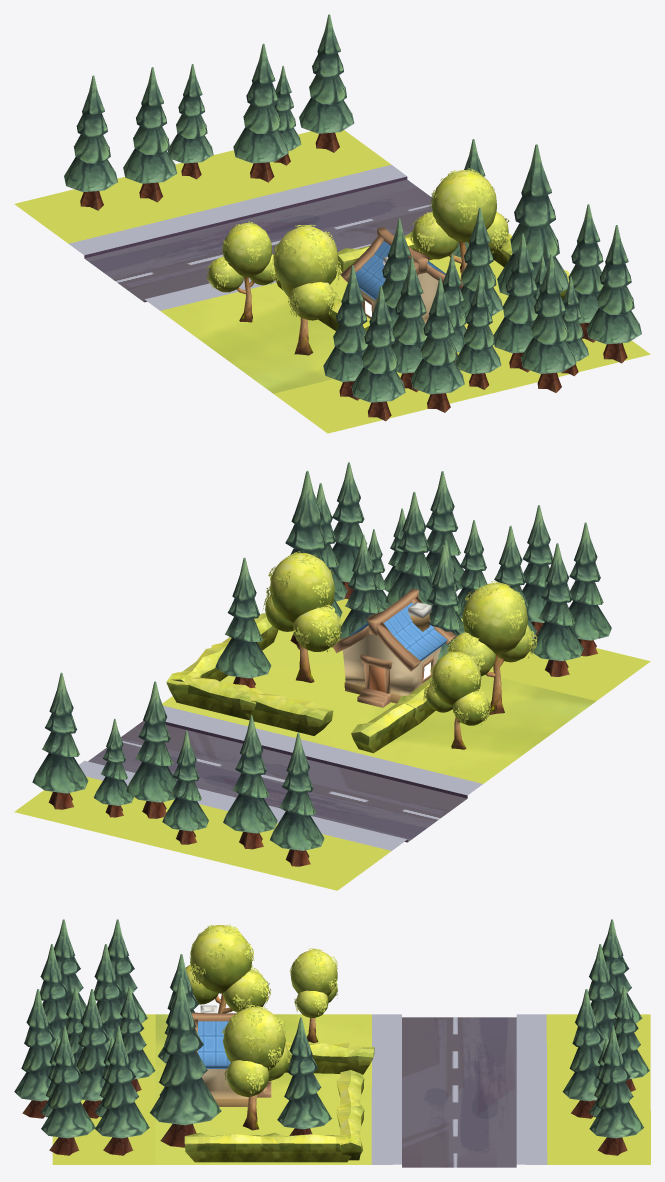
The model's file is satz1 .fbx.
The picture shows the model from 3 angles, top to bottom: view 1: azimuth 30°, elevation 25°; view 2: azimuth 150°, elevation 25°; view 3: azimuth 270°, elevation 25°; orthographic projection. The views are drawn at different scales.
Visible parts, largest first — view 1: Plane_Road_0.006; view 2: Plane_Road_0.006; view 3: Plane_Road_0.006.
Boxes of the visible parts, left/top/right/bottom form: Plane_Road_0.006: left=14, top=14, right=650, bottom=433; Plane_Road_0.006: left=14, top=462, right=650, bottom=890; Plane_Road_0.006: left=14, top=919, right=650, bottom=1167.
Bounding box in the file's own units: 1625 × 909 × 471.
5 materials, 5 textured.
